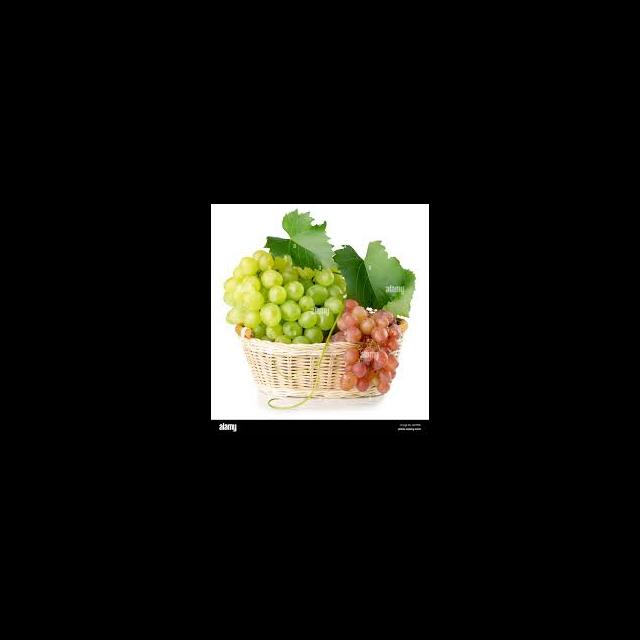grape: (222, 250, 347, 344), (328, 300, 406, 394)
